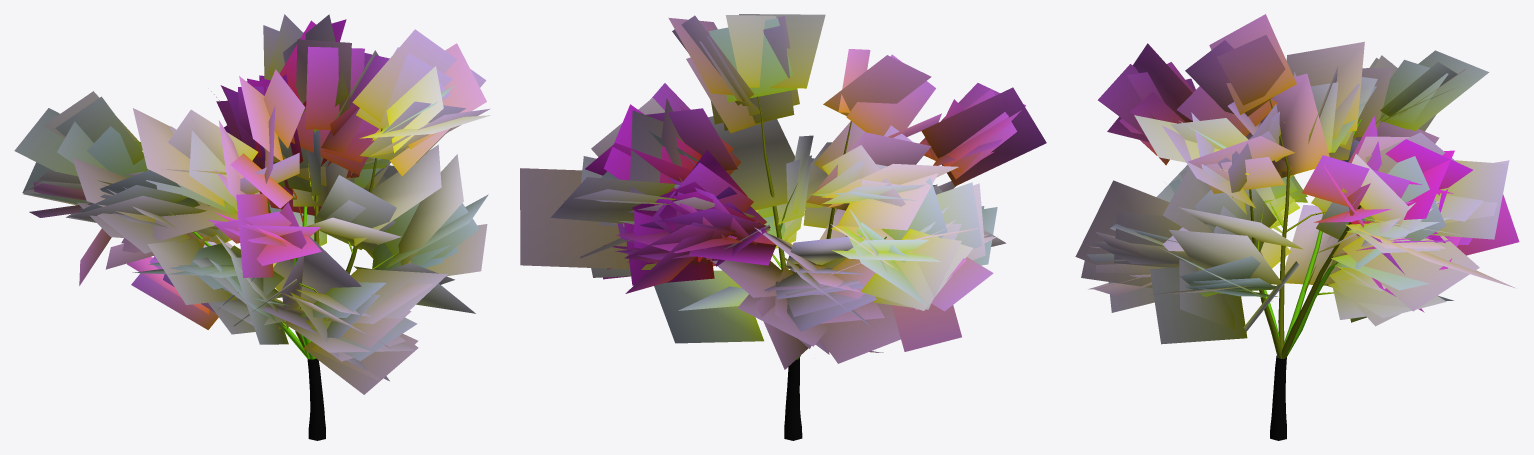
Rendered from tree_zelkova_d_lod1.glb.
The picture shows the model from 3 angles, left to right: view 1: azimuth 30°, elevation 25°; view 2: azimuth 150°, elevation 25°; view 3: azimuth 270°, elevation 25°; orthographic projection. The views are drawn at different scales.
Visible parts, largest first — view 1: tree_zelkova_d_lod1; view 2: tree_zelkova_d_lod1; view 3: tree_zelkova_d_lod1.
Boxes of the visible parts, <box> form: tree_zelkova_d_lod1: <box>14,14,490,440</box>; tree_zelkova_d_lod1: <box>520,14,1046,440</box>; tree_zelkova_d_lod1: <box>1075,14,1519,440</box>.
Bounding box in the file's own units: 18.63 × 16.19 × 17.06.
